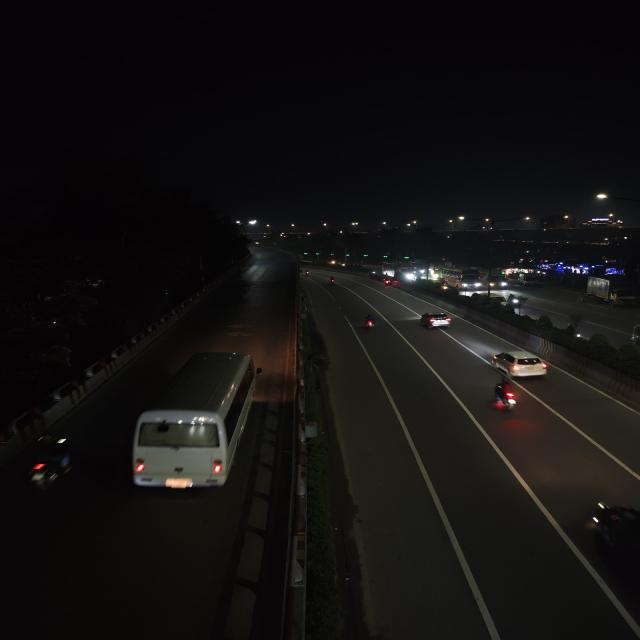bus: (126, 344, 256, 490), (440, 267, 481, 293), (482, 269, 512, 291)
car: (487, 349, 547, 378), (419, 306, 457, 331)
motorcycle: (23, 429, 74, 498), (486, 376, 514, 413), (359, 312, 380, 338), (506, 292, 520, 307), (324, 276, 338, 288), (305, 268, 312, 276)
truck: (586, 272, 640, 310), (518, 273, 535, 289)
